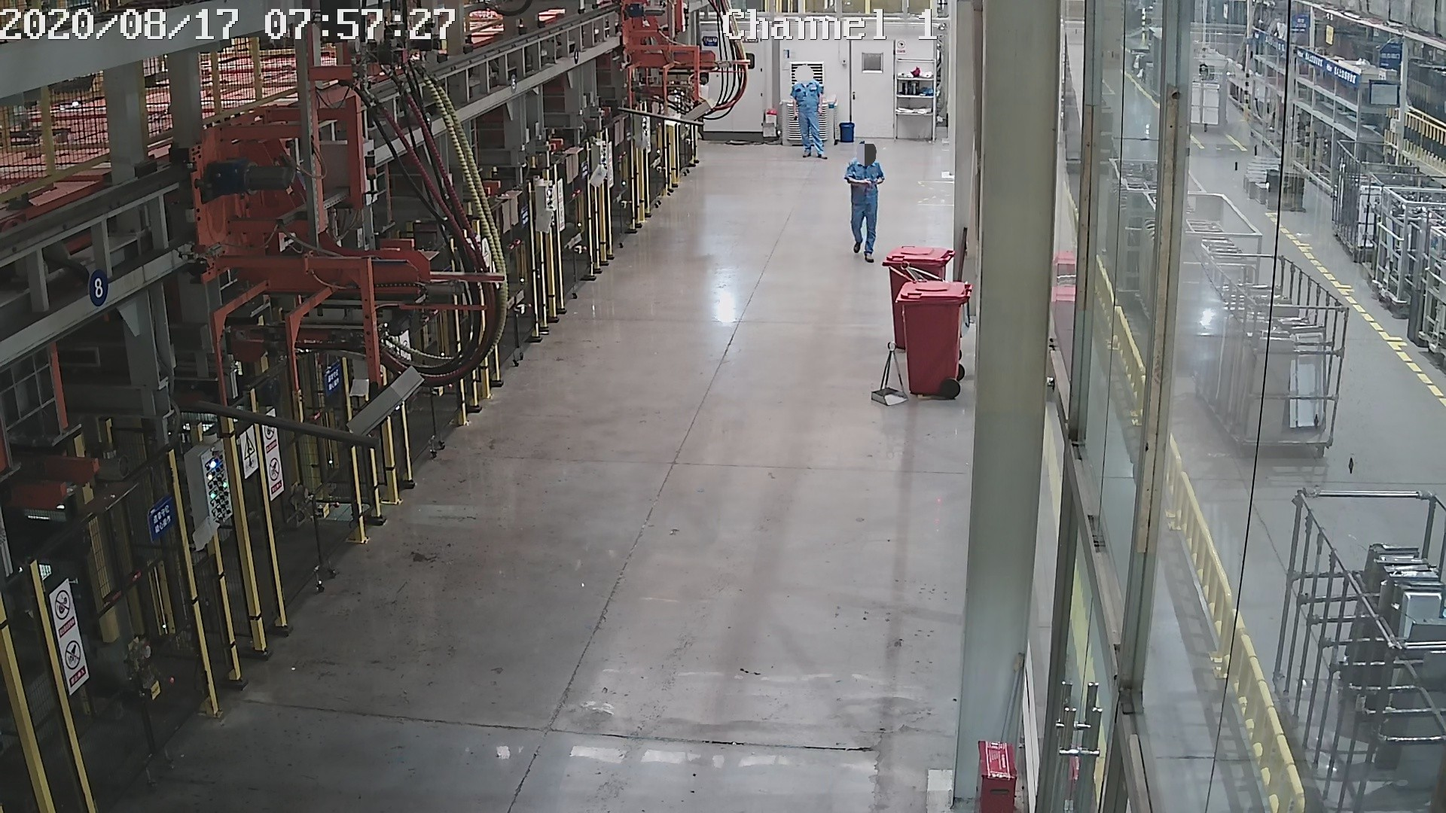head: (859, 142, 874, 163), (800, 65, 809, 79)
person: (844, 142, 886, 263), (789, 65, 828, 160)
